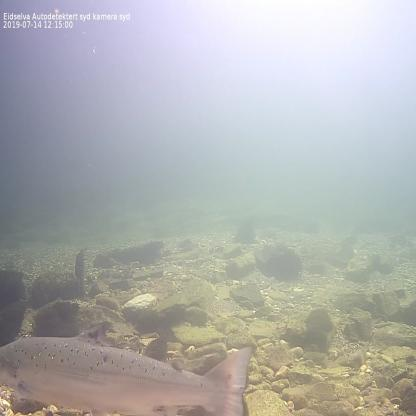salmon: (0, 320, 254, 416)
